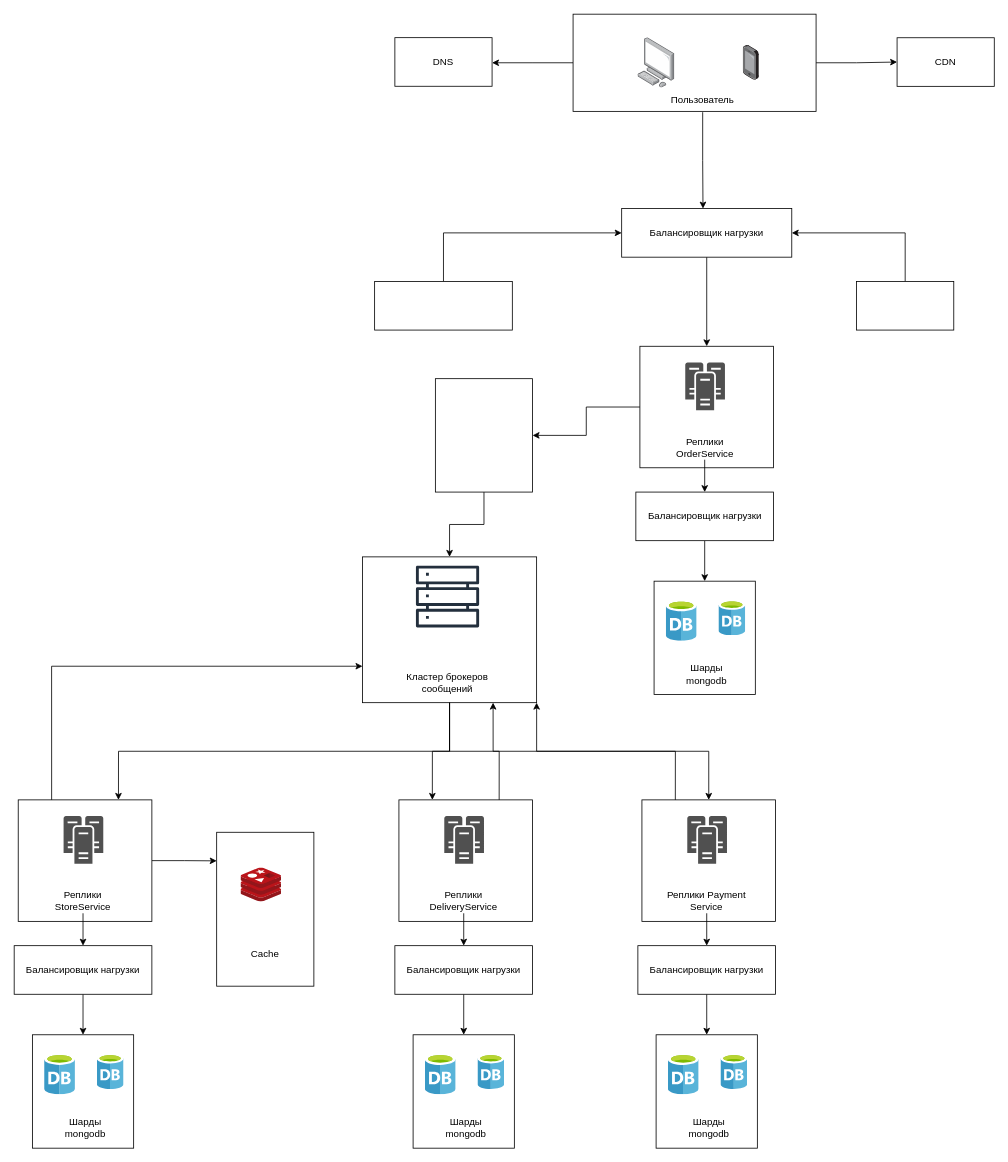
The diagram is 1008 pixels wide and 1162 high, and some of its shapes have lost their labels. Here are the shapes that lost their labels. From the top down, the centre of each, then its label:
At point 443,305: "DiscoveryService".
At point 905,305: "Сервис конфигурации".
At point 484,435: "Оркестратор".
